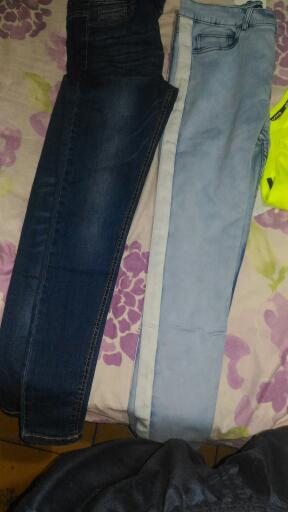jeans: (17, 6, 156, 431), (161, 5, 275, 444)
